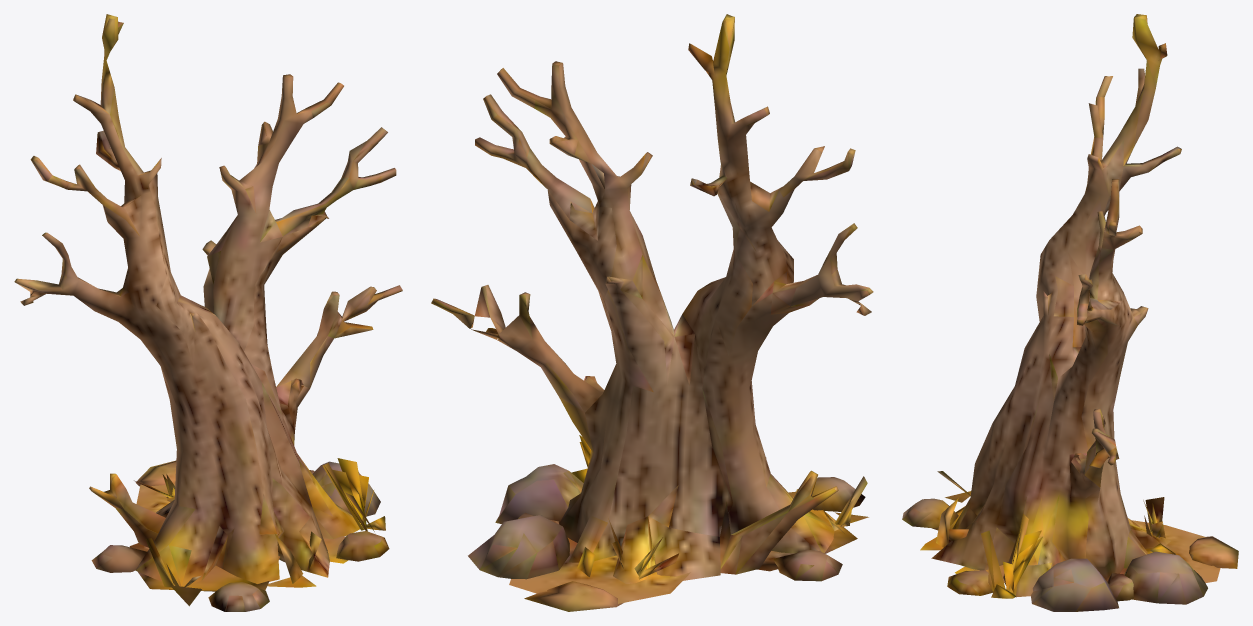
File: tree_04.glb
The picture shows the model from 3 angles, left to right: view 1: azimuth 30°, elevation 25°; view 2: azimuth 150°, elevation 25°; view 3: azimuth 270°, elevation 25°; orthographic projection. The views are drawn at different scales.
Visible parts, largest first — view 1: tree_04; view 2: tree_04; view 3: tree_04.
Boxes of the visible parts, bbox=[...] form: tree_04: bbox=[14, 14, 402, 611]; tree_04: bbox=[431, 14, 873, 611]; tree_04: bbox=[902, 14, 1238, 611].
Size of the model in its own units: 5.97 by 7.5 by 4.64.
Materials: 1 (1 with a texture image).
